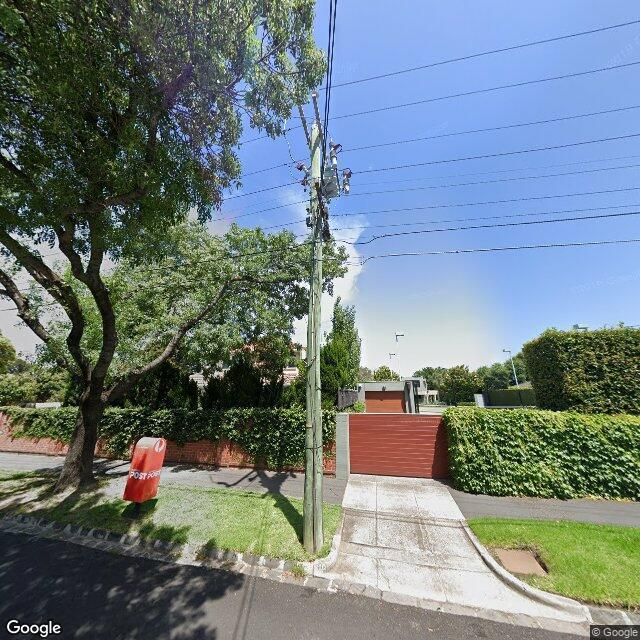crossarm: (314, 180, 330, 238), (311, 91, 323, 140), (299, 105, 311, 147)
timber-pole: (303, 123, 323, 551)
transformer: (322, 141, 354, 197)
